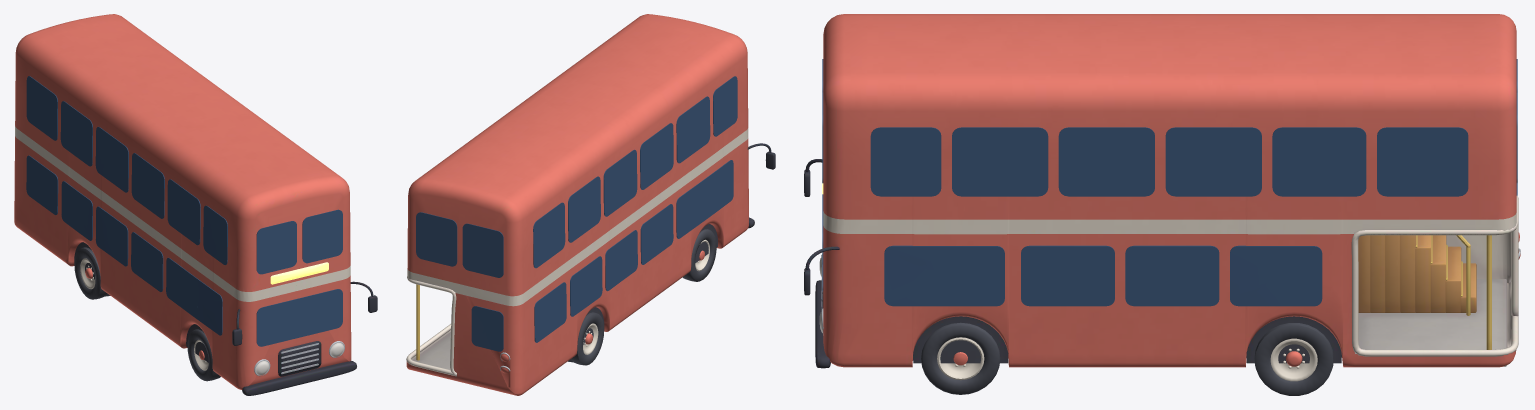
Rendered from double-decker-bus.glb.
The picture shows the model from 3 angles, left to right: view 1: azimuth 30°, elevation 25°; view 2: azimuth 150°, elevation 25°; view 3: azimuth 270°, elevation 25°; orthographic projection. The views are drawn at different scales.
Parts seen in each view (by area): view 1: double-decker-bus_body, double-decker-bus_windows, double-decker-bus_wheel_rr, double-decker-bus_wheel_fr, double-decker-bus_destination_display, double-decker-bus_headlights; view 2: double-decker-bus_body, double-decker-bus_windows, double-decker-bus_wheel_rr, double-decker-bus_wheel_fr; view 3: double-decker-bus_body, double-decker-bus_windows, double-decker-bus_wheel_rl, double-decker-bus_wheel_fl.
Part boxes in pixels (box(x1,y1,x2,y2)): double-decker-bus_body: box(14, 14, 377, 395); double-decker-bus_windows: box(26, 76, 342, 346); double-decker-bus_wheel_rr: box(74, 247, 110, 299); double-decker-bus_wheel_fr: box(187, 329, 220, 381); double-decker-bus_destination_display: box(270, 262, 328, 284); double-decker-bus_headlights: box(254, 341, 344, 376); double-decker-bus_body: box(406, 14, 775, 395); double-decker-bus_windows: box(416, 76, 737, 351); double-decker-bus_wheel_rr: box(568, 312, 604, 365); double-decker-bus_wheel_fr: box(682, 229, 716, 281); double-decker-bus_body: box(804, 14, 1518, 368); double-decker-bus_windows: box(822, 59, 1517, 306); double-decker-bus_wheel_rl: box(1254, 323, 1333, 395); double-decker-bus_wheel_fl: box(921, 322, 1000, 394).
Size of the model in its own units: 3.08 by 4.35 by 8.92.
20 materials, 1 textured.
